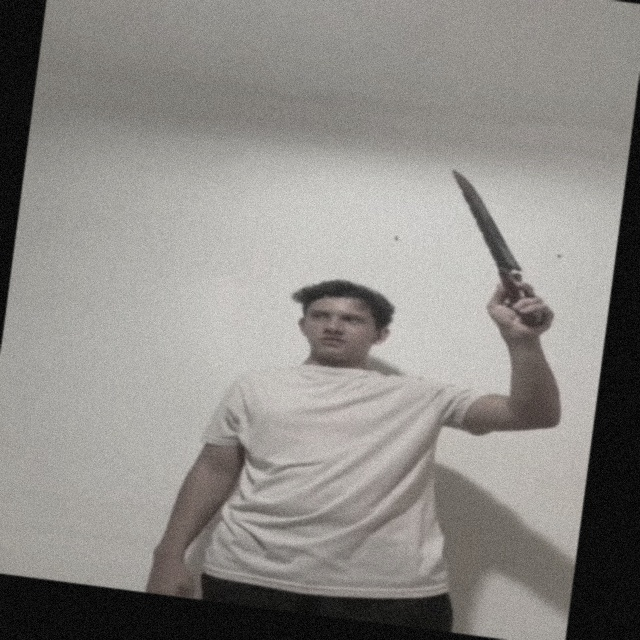Sharp-Object: (443, 170, 531, 269)
